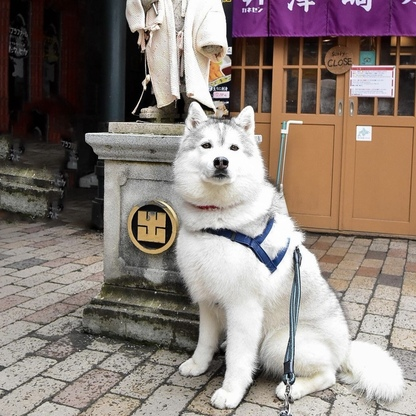husky: (166, 97, 411, 412)
